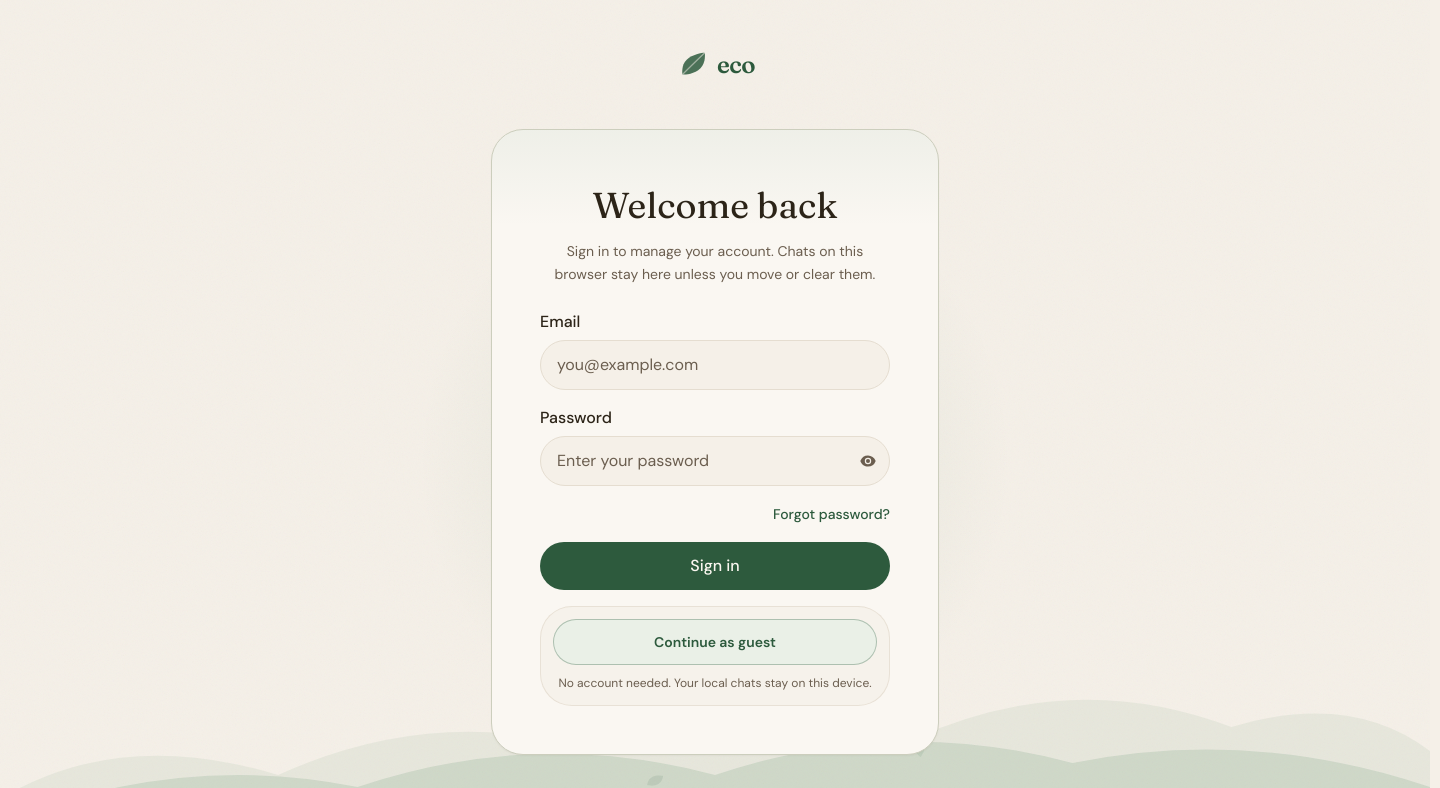
it: SignInPage › shows warm generic copy (never a bland 'Sign in failed') for an unexpected sign-in error
Type "friend@eco.local" into the field labelled "Email".
click(715, 364); type("friend@eco.local")  # box [540, 340, 890, 390]
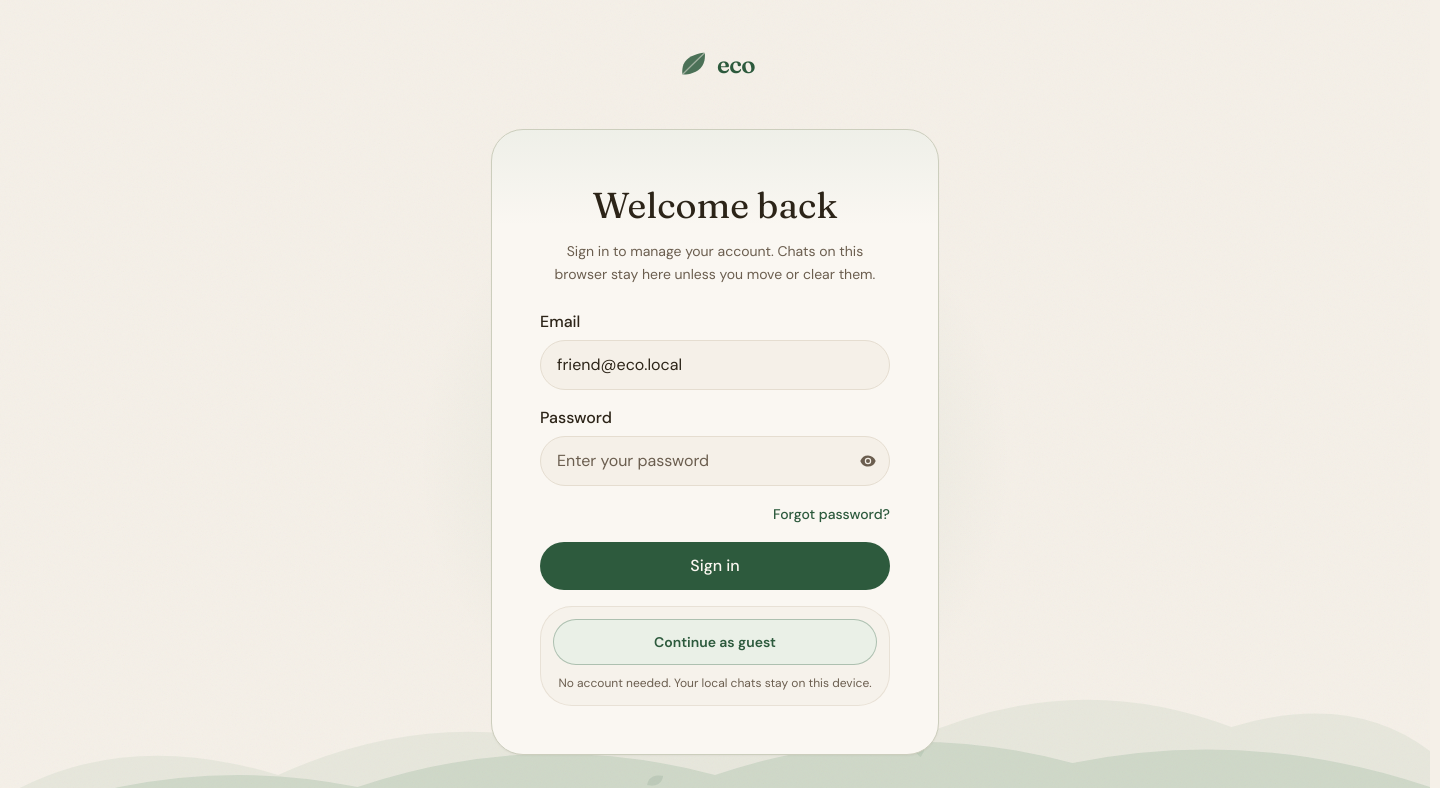
Type "whatever" into the password field labelled "Password".
click(715, 460); type("whatever")  # box [540, 436, 890, 486]
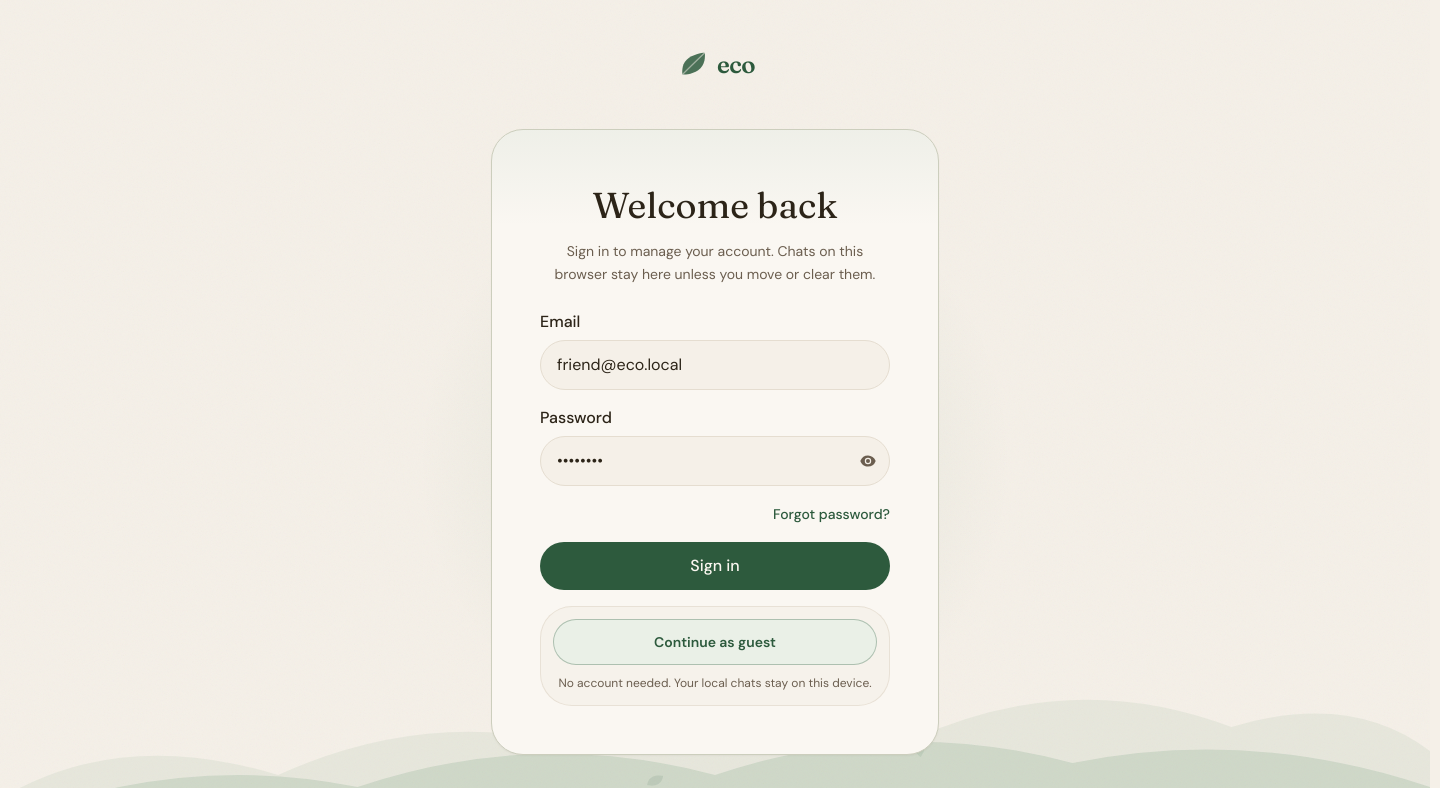
Click the button "Sign in".
click(715, 566)  # box [540, 542, 890, 590]
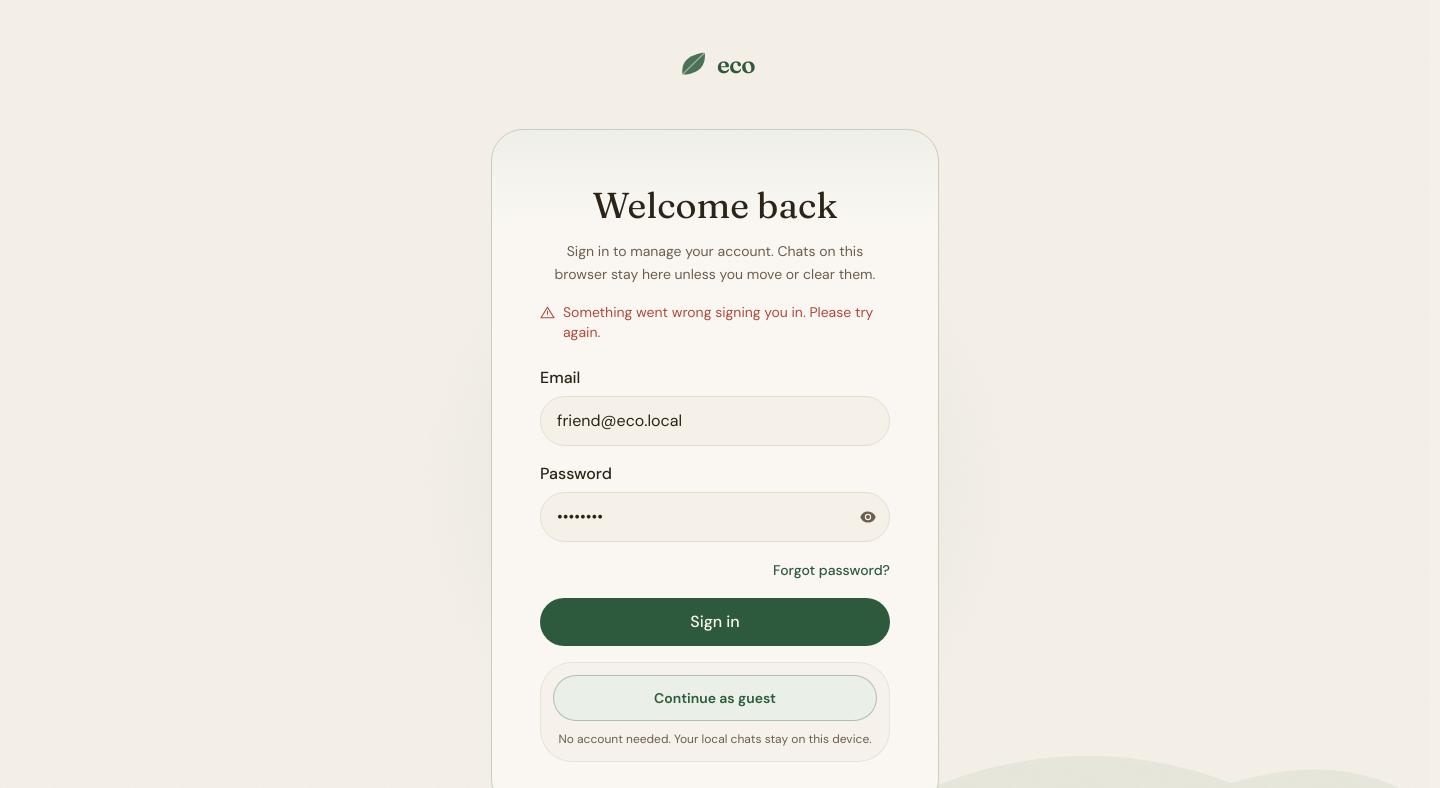
Expected: the message does not show "sign in failed", [540, 302, 890, 342]
Now the message reads "Something went wrong signing you in. Please try again.", box [563, 302, 873, 340]
